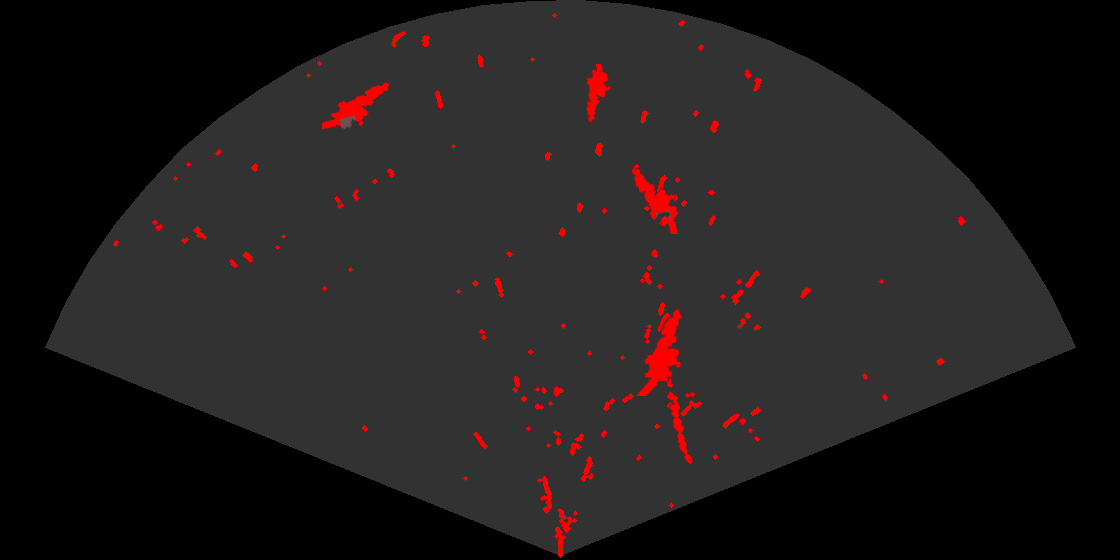chain: (660, 367, 694, 466)
frogman: (634, 308, 684, 396), (322, 81, 391, 131), (630, 166, 680, 234), (585, 64, 613, 124)
